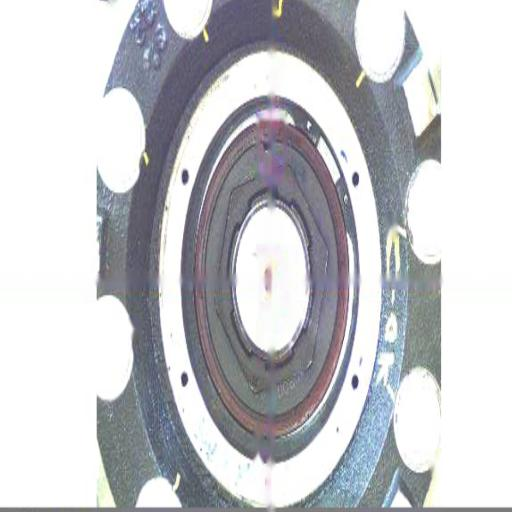center: (261, 269, 274, 293)
notch: (259, 136, 277, 162)
